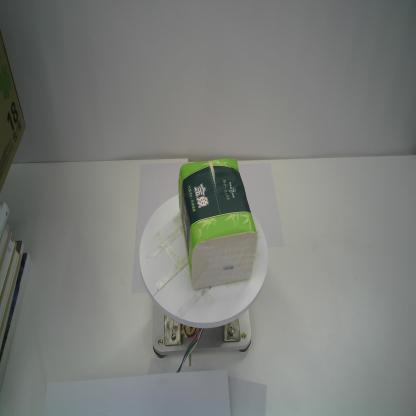Tissue: (177, 156, 259, 292)
